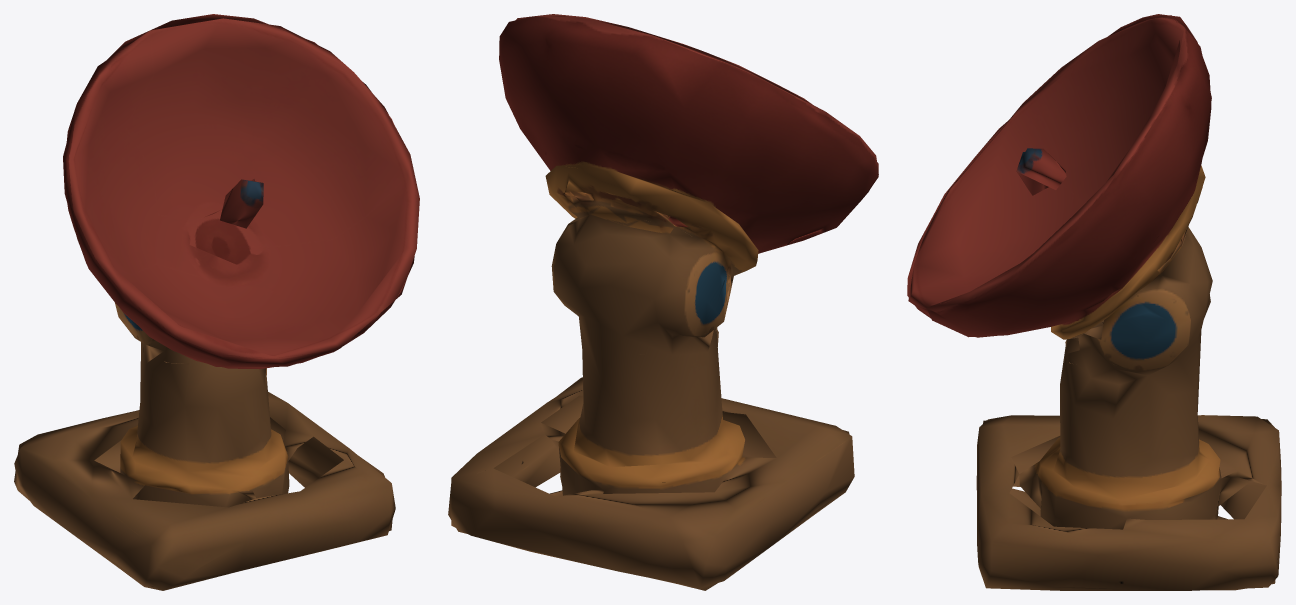
The model's file is antenna-tarelka.glb.
3 renders of one model, left to right at view 1: azimuth 30°, elevation 25°; view 2: azimuth 150°, elevation 25°; view 3: azimuth 270°, elevation 25°, orthographic. The views are drawn at different scales.
Parts seen in each view (by area): view 1: geometry_0; view 2: geometry_0; view 3: geometry_0.
Part boxes in pixels (left/top/right/bottom): geometry_0: left=14, top=14, right=419, bottom=590; geometry_0: left=448, top=14, right=878, bottom=590; geometry_0: left=907, top=14, right=1281, bottom=590.
Bounding box in the file's own units: 0.7156 × 0.9893 × 0.6813.
1 material, 1 textured.
